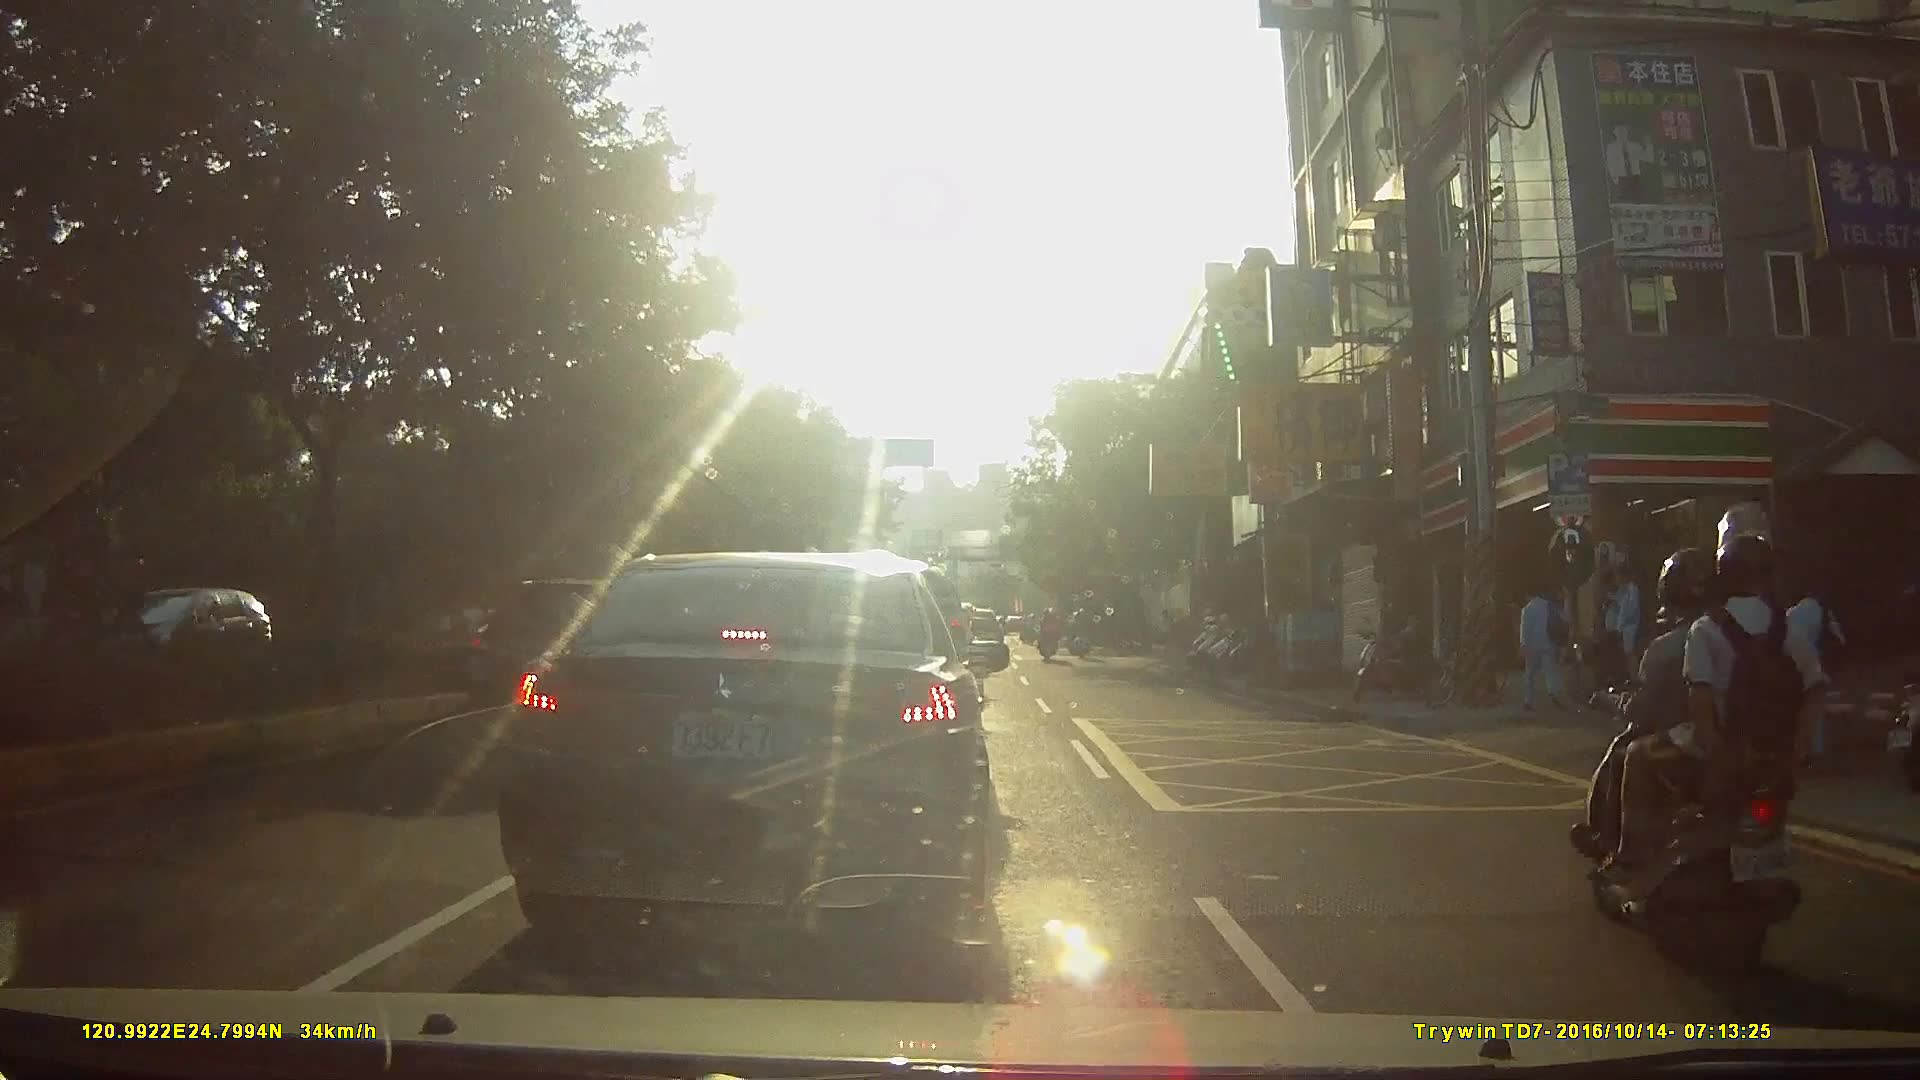pedestrian: (1715, 567, 1788, 812), (1519, 579, 1572, 714), (1598, 566, 1642, 688), (1668, 565, 1710, 677), (1595, 567, 1619, 695)
rider: (1567, 502, 1839, 973), (1038, 606, 1061, 666), (1067, 610, 1090, 661)
vehicle: (483, 542, 1015, 960), (92, 584, 282, 685)
